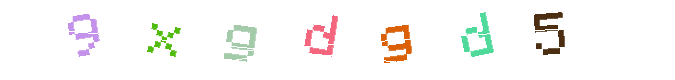5: (509, 0, 589, 80)
9: (45, 0, 125, 80)
D: (297, 0, 377, 80), (357, 0, 437, 80)
G: (289, 0, 369, 80), (317, 0, 397, 80)
X: (123, 0, 203, 80)
